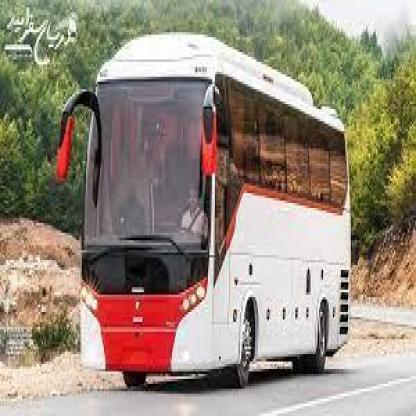Bus: (58, 37, 350, 404)
